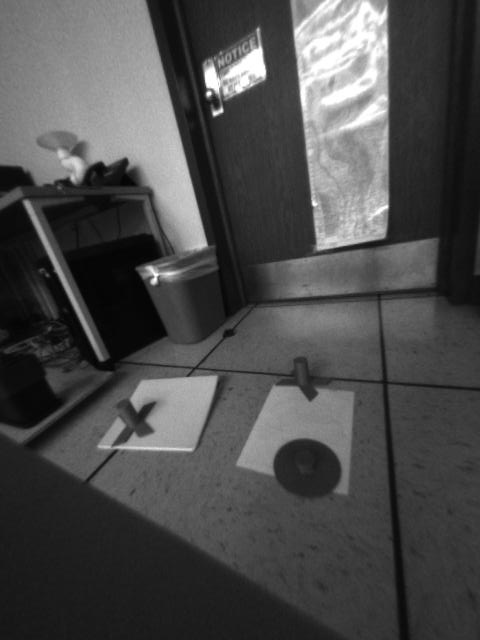X: (275, 353, 335, 401), (111, 400, 157, 446)
